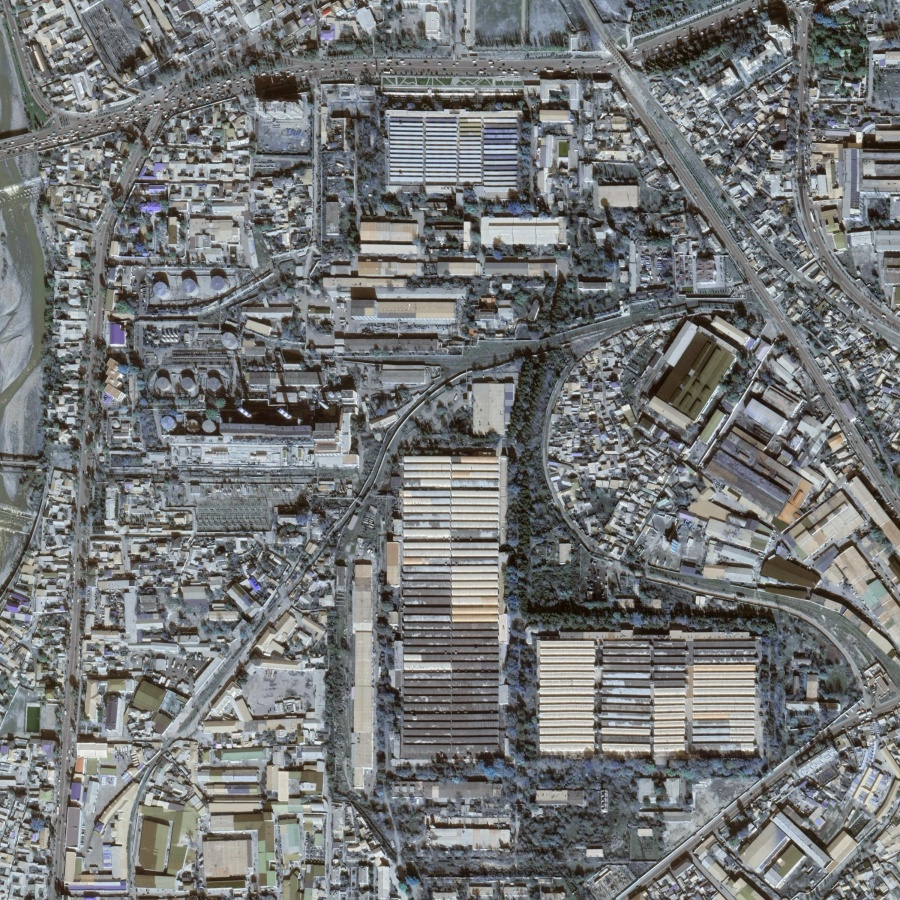PowerPlant: (143, 322, 364, 533)
